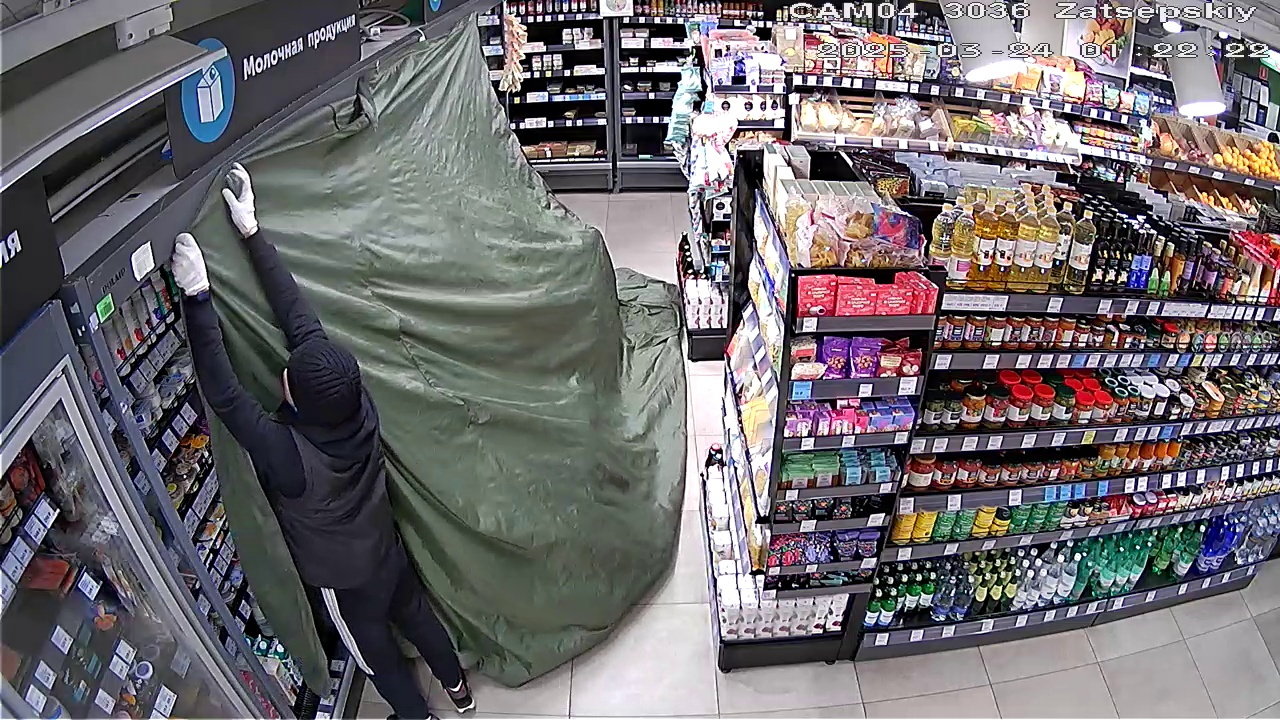Human: (165, 153, 469, 719)
dome: (171, 48, 672, 684)
